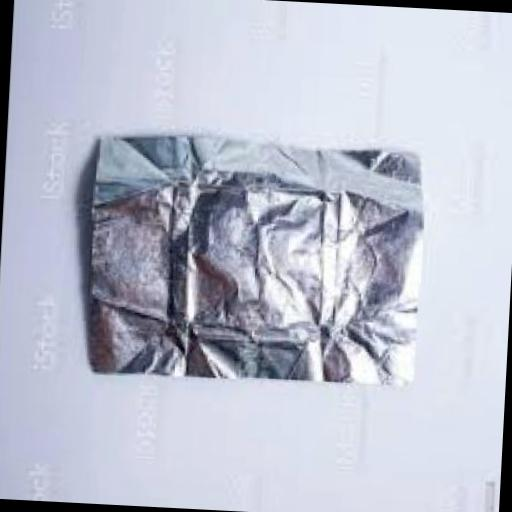metal: (80, 135, 429, 393)
